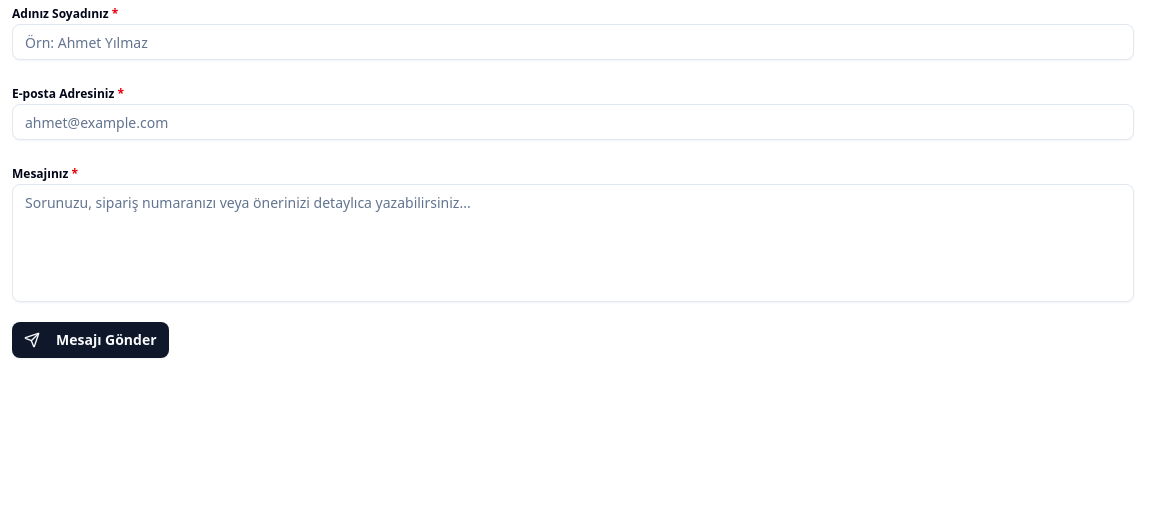
Scenario: ContactForm Component › displays field validation errors and sets aria-invalid when action returns errors
Type "A" into the field labelled "Adınız Soyadınız *".
click(573, 42); type("A")  # box [12,24,1134,60]
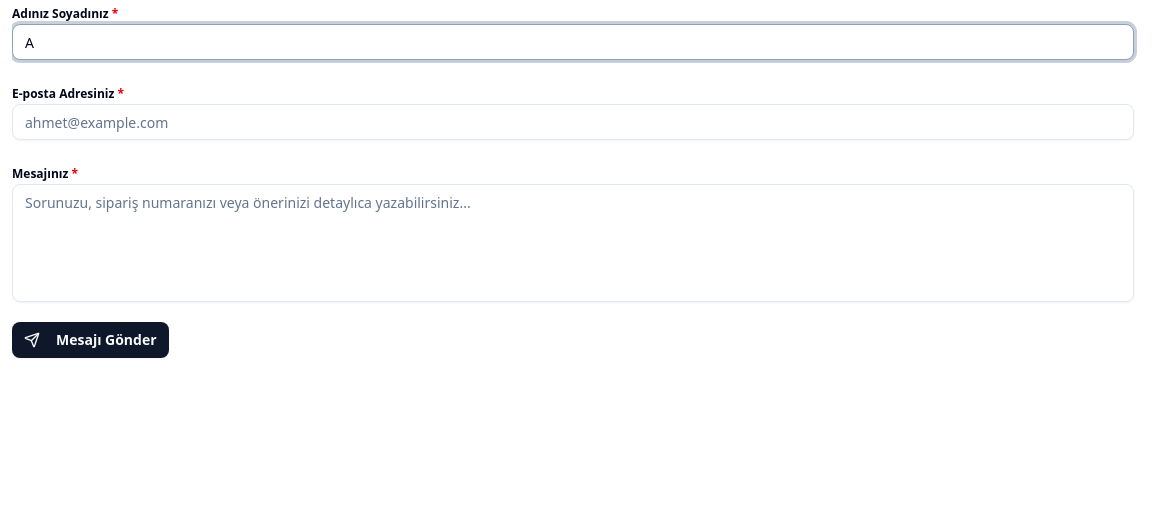
Type "a@b.com" into the field labelled "E-posta Adresiniz *".
click(573, 122); type("a@b.com")  # box [12,104,1134,140]
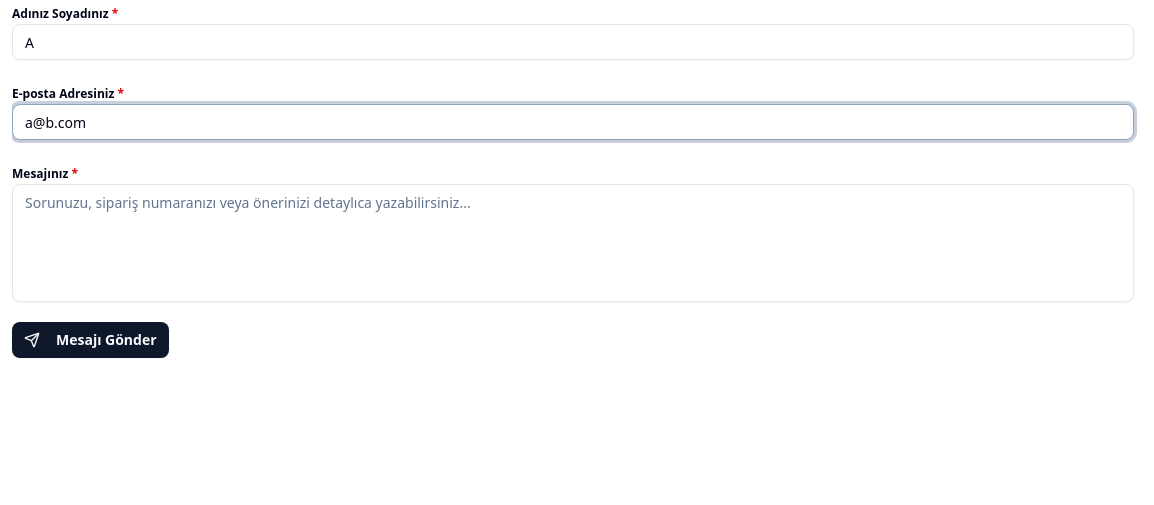
Type "Kısa mesaj" into the text box labelled "Mesajınız *".
click(573, 243); type("Kısa mesaj")  # box [12,184,1134,302]
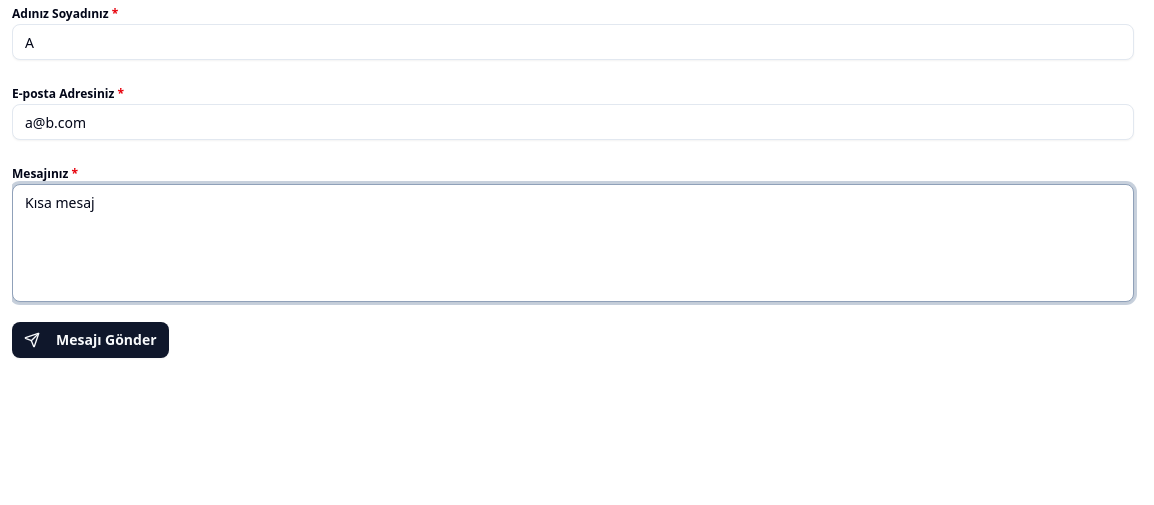
Click the button "Mesajı Gönder".
click(90, 340)  # box [12,322,169,358]
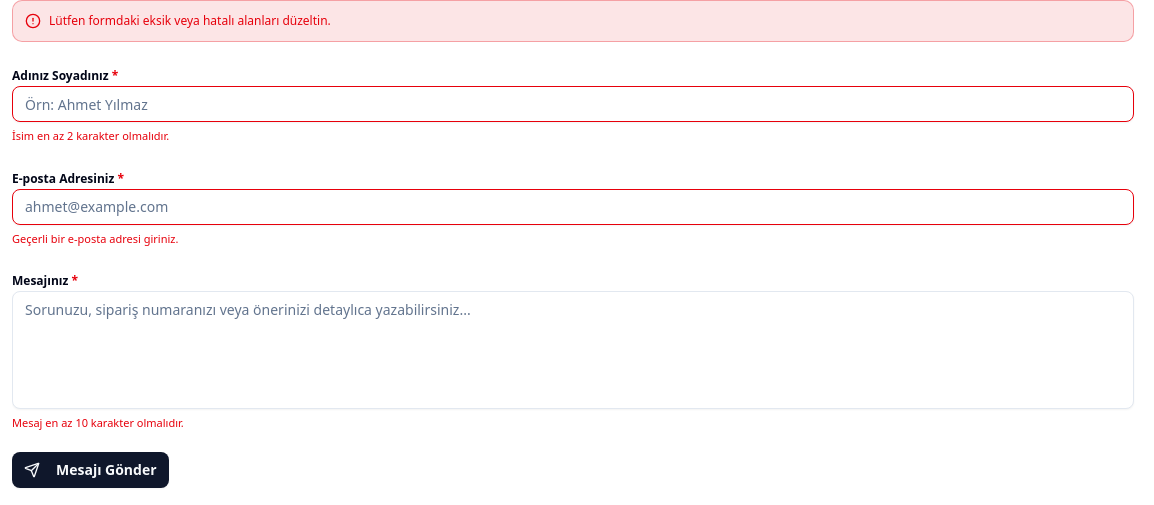
Expected: the text "İsim en az 2 karakter olmalıdır." is shown, [12,128,169,143]
Expected: the text "Geçerli bir e-posta adresi giriniz." is shown, [12,230,178,246]
Expected: the text "Mesaj en az 10 karakter olmalıdır." is shown, [12,415,184,430]
